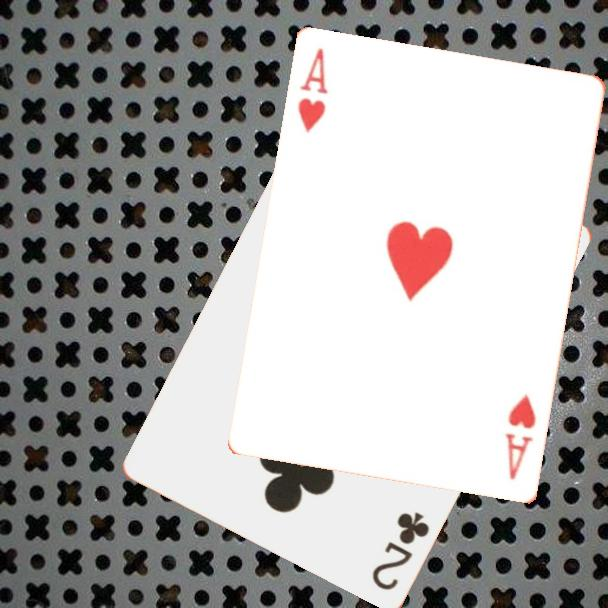c02: (368, 508, 433, 594)
h01: (294, 45, 332, 137), (502, 391, 539, 484)
